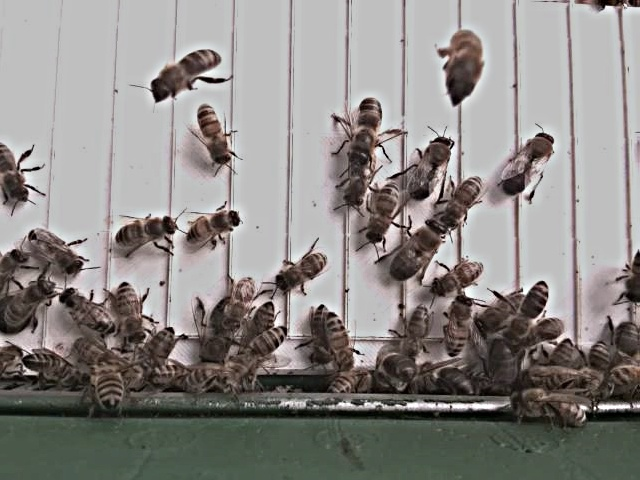Drone: (501, 127, 559, 197), (389, 215, 449, 281), (404, 132, 455, 202), (343, 92, 390, 166)
Worker: (151, 43, 227, 103), (27, 224, 86, 275), (59, 285, 118, 334), (363, 180, 406, 245), (513, 277, 553, 340), (198, 100, 235, 167), (114, 211, 180, 248), (442, 173, 486, 228), (274, 247, 332, 288), (440, 292, 476, 357), (0, 139, 33, 207), (239, 322, 290, 366), (188, 205, 244, 245), (433, 256, 488, 296), (118, 280, 150, 347), (326, 310, 358, 373), (403, 302, 434, 363)
